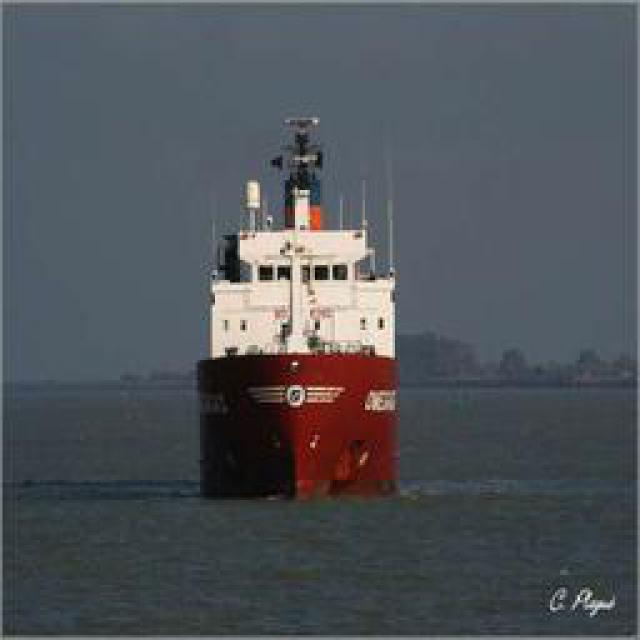Ship: (200, 104, 403, 509)
